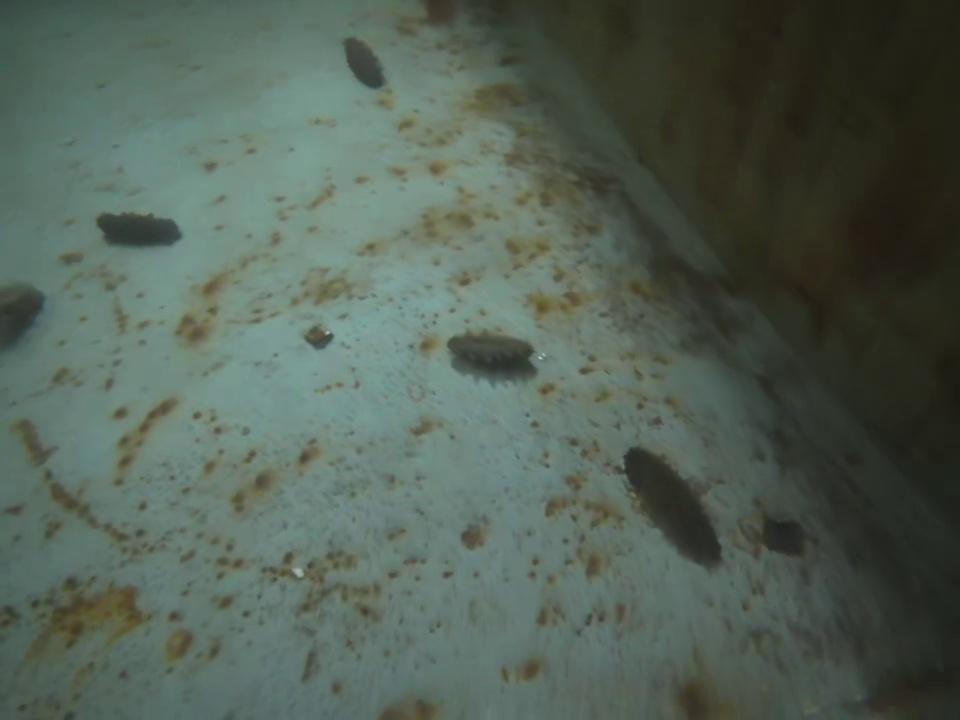seacucumber: (623, 442, 724, 569), (446, 330, 536, 374), (1, 279, 49, 356), (93, 207, 183, 248), (340, 38, 386, 91)
